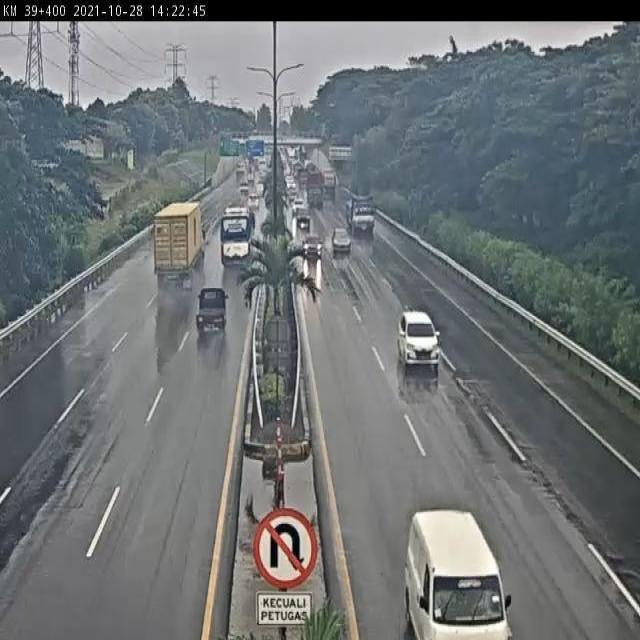Bus: (220, 202, 256, 270)
Car: (394, 308, 444, 375), (193, 285, 230, 338), (333, 229, 353, 257), (301, 236, 324, 257), (296, 209, 312, 229)
Truck: (152, 200, 212, 284), (344, 192, 375, 240), (305, 167, 324, 209)
Van: (404, 501, 514, 640)
